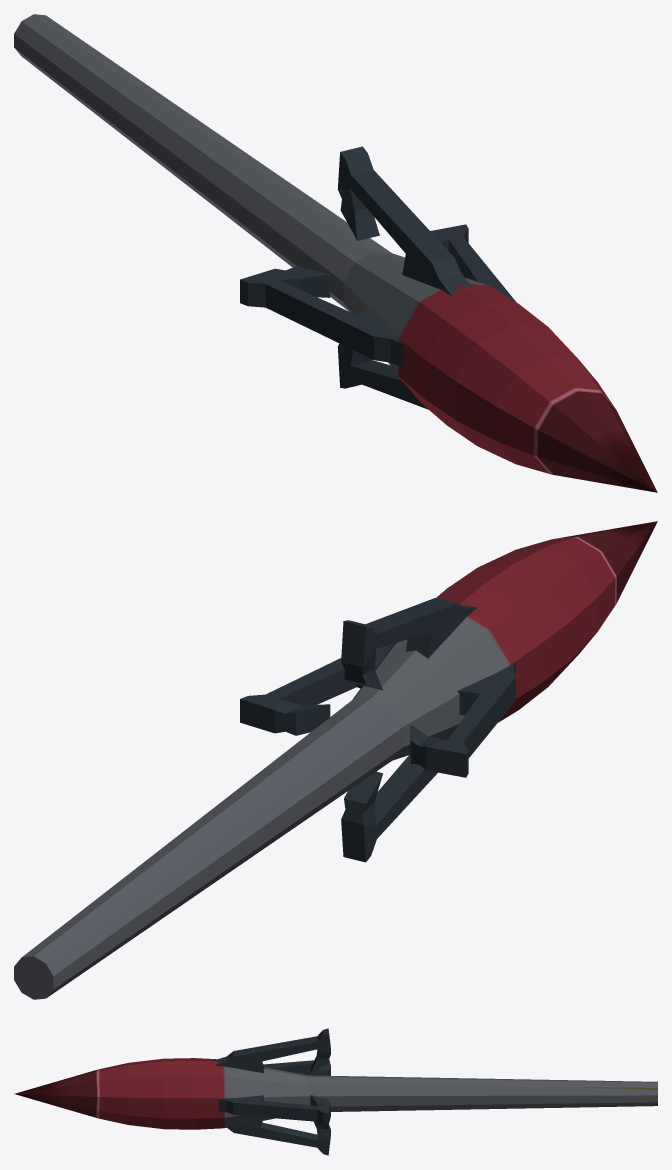
The model's file is mesh_harpoon_projectile.fbx.
3 views of the same model, one above another, from view 1: azimuth 30°, elevation 25°; view 2: azimuth 150°, elevation 25°; view 3: azimuth 270°, elevation 25° (orthographic). The views are drawn at different scales.
Visible parts, largest first — view 1: harpoon_projectile; view 2: harpoon_projectile; view 3: harpoon_projectile.
Part boxes in pixels (bbox=[...]): harpoon_projectile: bbox=[14, 14, 657, 492]; harpoon_projectile: bbox=[14, 521, 657, 999]; harpoon_projectile: bbox=[14, 1028, 657, 1155].
Size of the model in its own units: 0.7545 by 0.7515 by 3.6.
